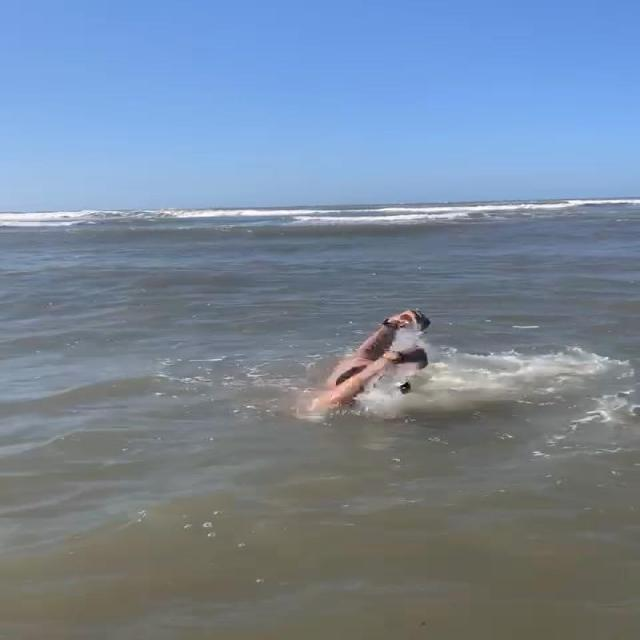Out of Water: (308, 304, 432, 418)
